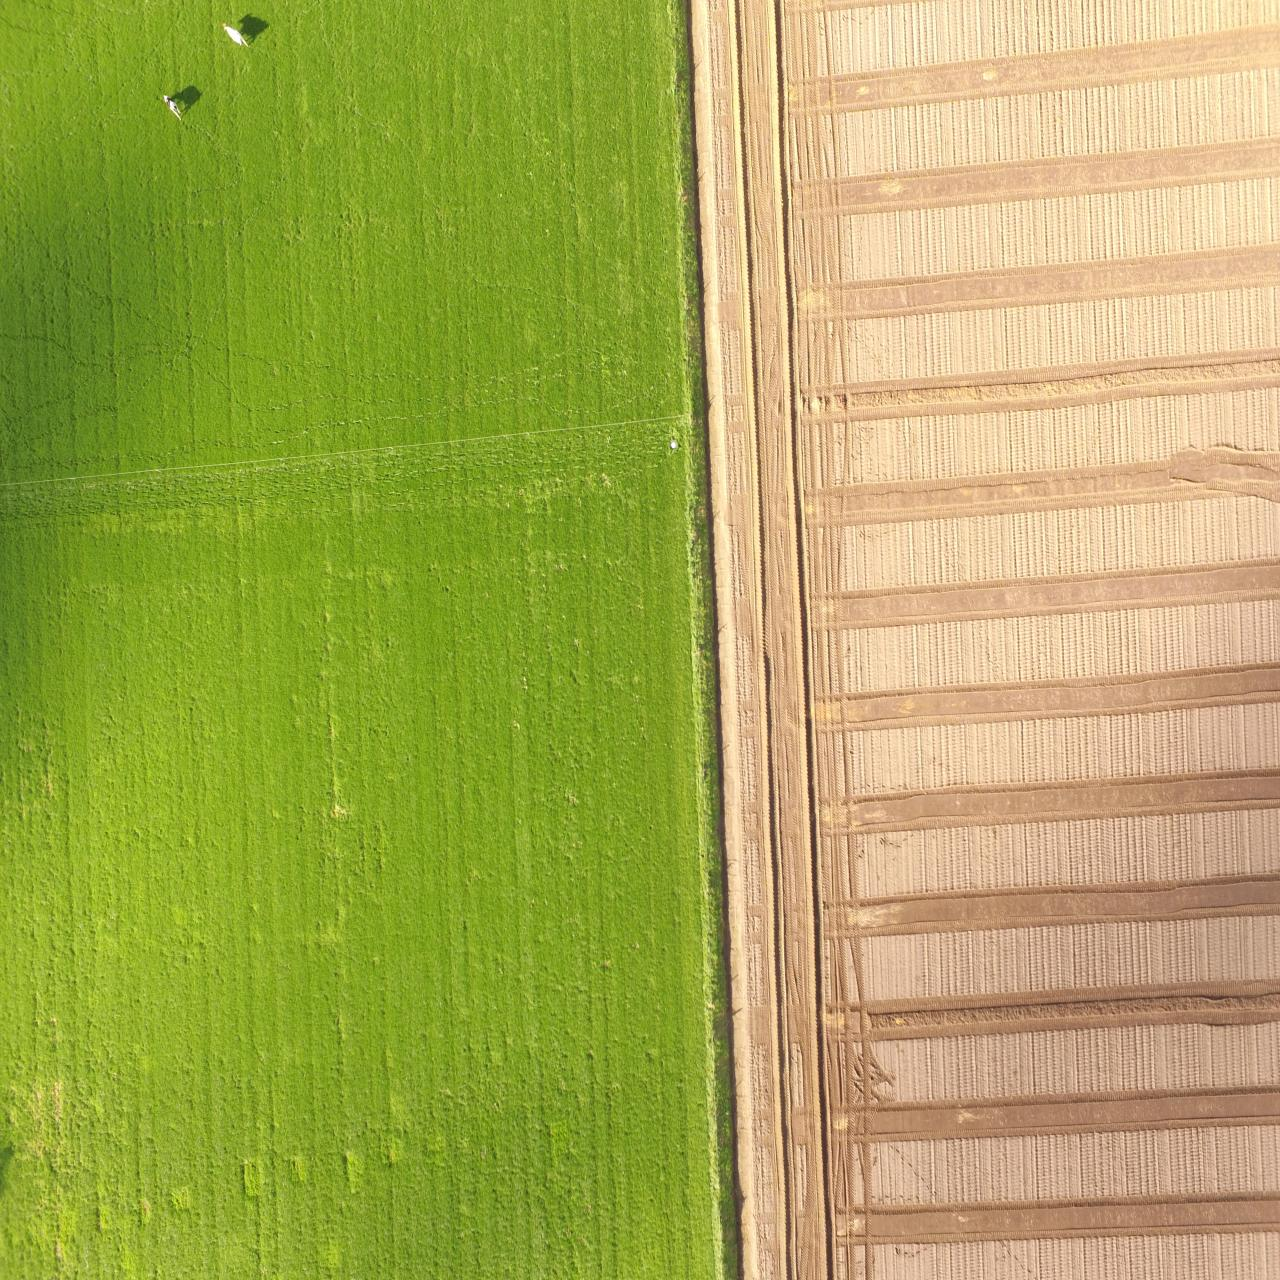cow: (222, 20, 250, 49), (162, 93, 183, 123)
